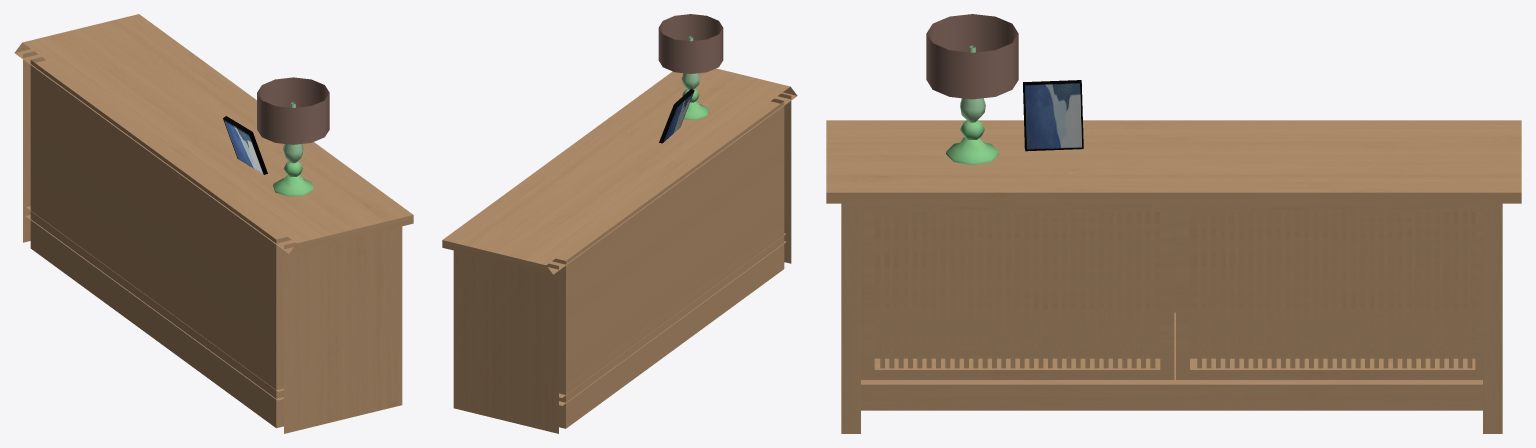
Rendered from M_chuangbiangui03.FBX.
3 views of the same model, side by side, from view 1: azimuth 30°, elevation 25°; view 2: azimuth 150°, elevation 25°; view 3: azimuth 270°, elevation 25° (orthographic). The views are drawn at different scales.
Visible parts, largest first — view 1: M_chuangbiangui03_01, M_chuangbiangui03_03, M_chuangbiangui03_02, M_chuangbiangui03_04; view 2: M_chuangbiangui03_01, M_chuangbiangui03_03, M_chuangbiangui03_02, M_chuangbiangui03_04; view 3: M_chuangbiangui03_01, M_chuangbiangui03_03, M_chuangbiangui03_04, M_chuangbiangui03_02.
Boxes of the visible parts, x1=… form: M_chuangbiangui03_01: x1=14, y1=14, x2=413, y2=433; M_chuangbiangui03_03: x1=257, y1=77, x2=329, y2=144; M_chuangbiangui03_02: x1=273, y1=102, x2=313, y2=196; M_chuangbiangui03_04: x1=223, y1=116, x2=267, y2=174; M_chuangbiangui03_01: x1=442, y1=68, x2=797, y2=433; M_chuangbiangui03_03: x1=658, y1=14, x2=723, y2=73; M_chuangbiangui03_02: x1=681, y1=36, x2=708, y2=119; M_chuangbiangui03_04: x1=659, y1=88, x2=694, y2=143; M_chuangbiangui03_01: x1=826, y1=120, x2=1521, y2=433; M_chuangbiangui03_03: x1=926, y1=14, x2=1018, y2=99; M_chuangbiangui03_04: x1=1023, y1=80, x2=1083, y2=151; M_chuangbiangui03_02: x1=946, y1=45, x2=998, y2=165.
Bounding box in the file's own units: 0.7815 × 1.73 × 2.98.
